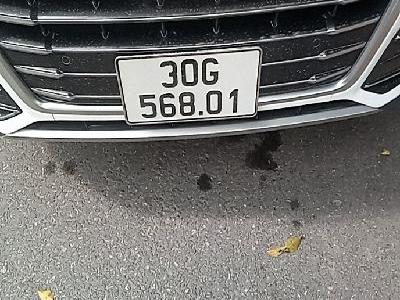lisence: (113, 45, 263, 128)
